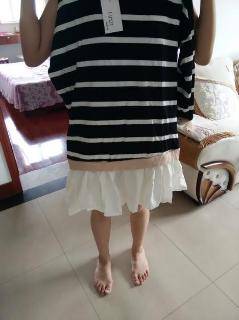long sleeve dress: (48, 0, 197, 217)
